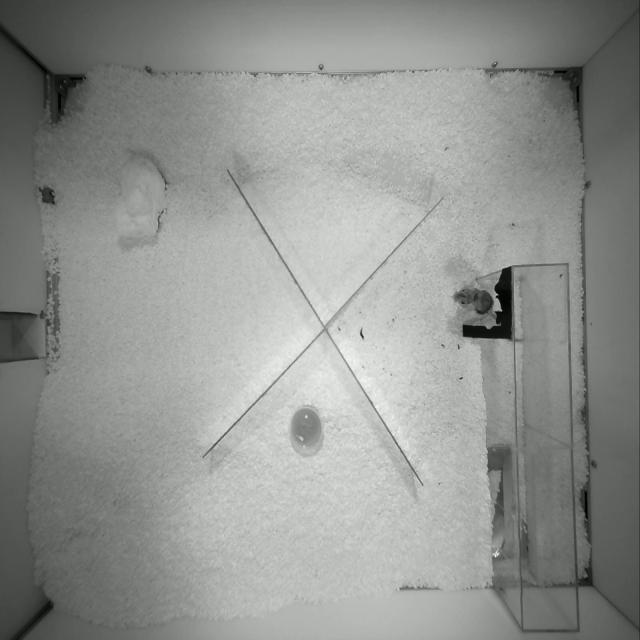adult_front: (454, 288, 498, 321)
